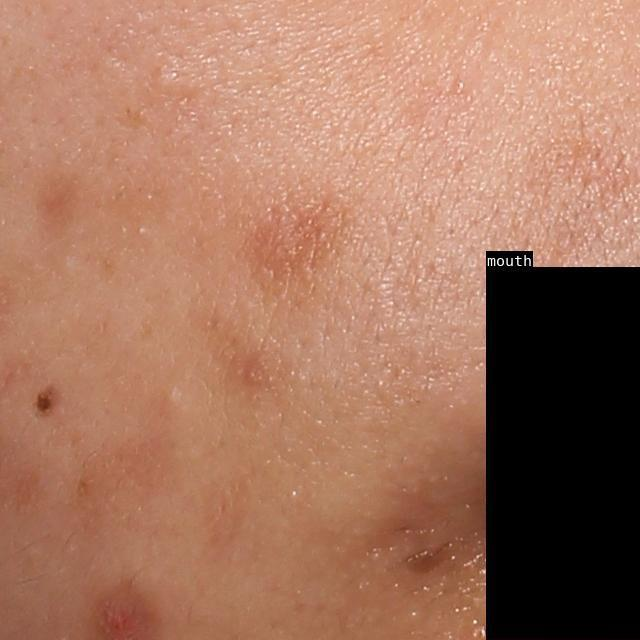comedo: (150, 67, 184, 96), (158, 387, 189, 418)
nevus: (32, 392, 57, 416)
